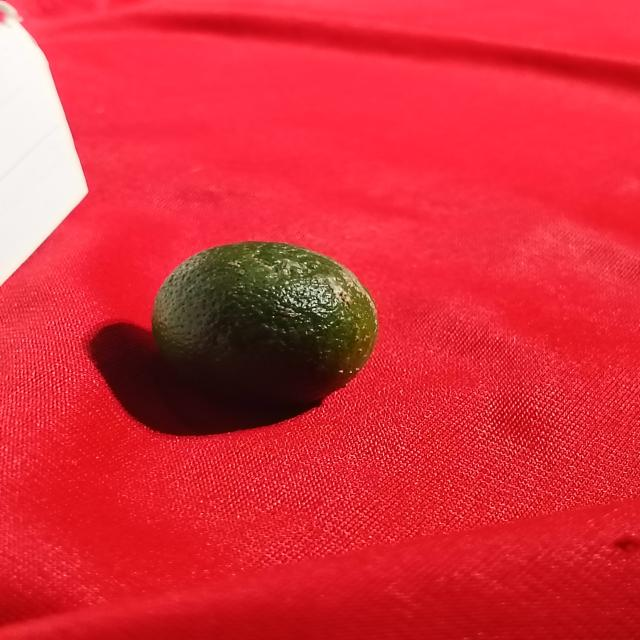scab: (152, 238, 386, 409)
